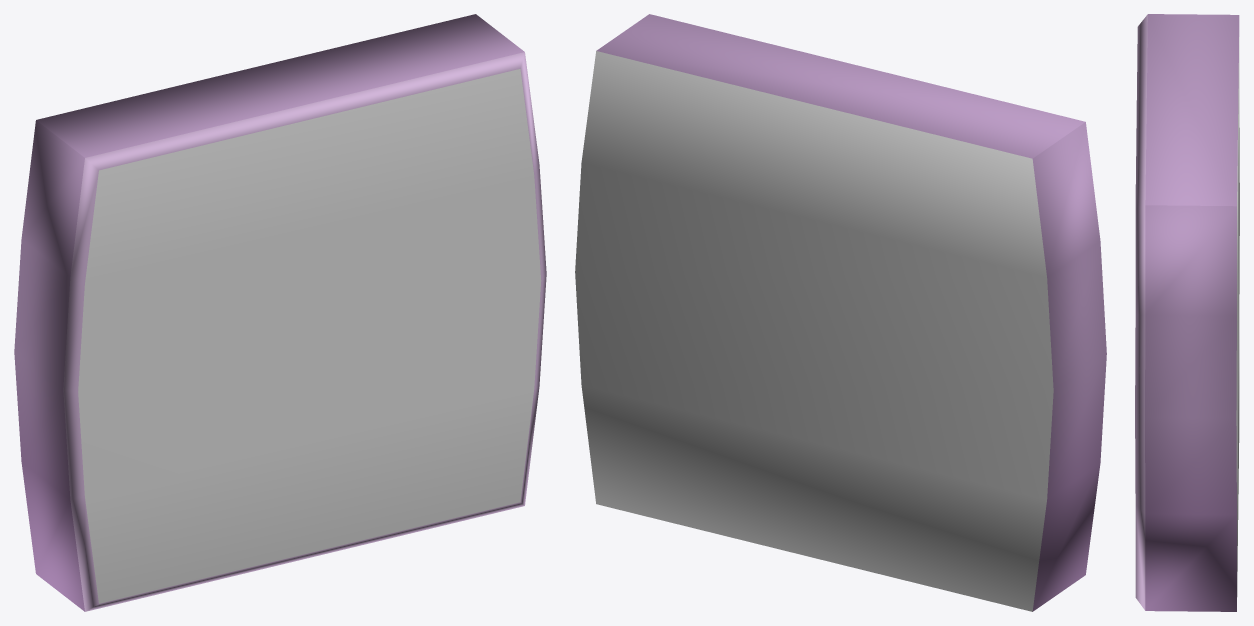
Rendered from StyleSign.glb.
3 views of the same model, side by side, from view 1: azimuth 30°, elevation 25°; view 2: azimuth 150°, elevation 25°; view 3: azimuth 270°, elevation 25° (orthographic). The views are drawn at different scales.
Visible parts, largest first — view 1: StyleSign; view 2: StyleSign; view 3: StyleSign.
Part boxes in pixels (left/top/right/bottom): StyleSign: left=14, top=14, right=546, bottom=611; StyleSign: left=575, top=14, right=1106, bottom=611; StyleSign: left=1135, top=14, right=1239, bottom=611.
Size of the model in its own units: 1.11 by 0.9948 by 0.2332.
